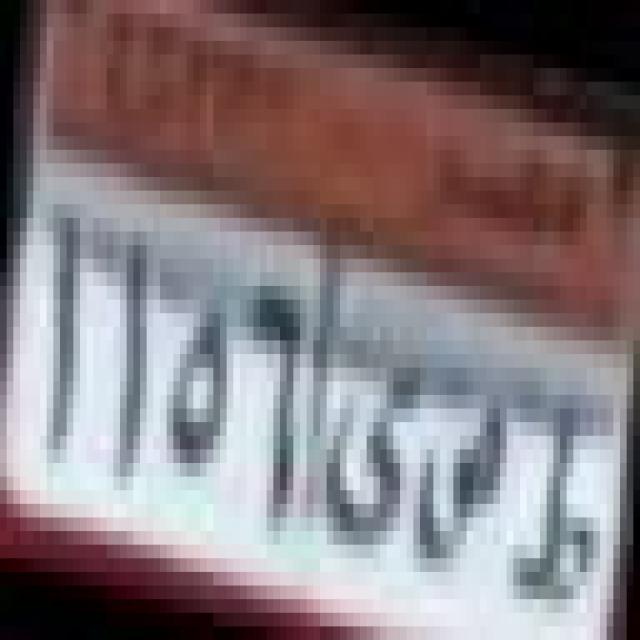1: (36, 188, 84, 472)
5: (163, 287, 230, 481)
6: (76, 199, 158, 499), (245, 274, 312, 540)
Saad: (408, 374, 514, 588)
Taa: (507, 385, 610, 622)
Yeeh: (318, 345, 422, 565)
